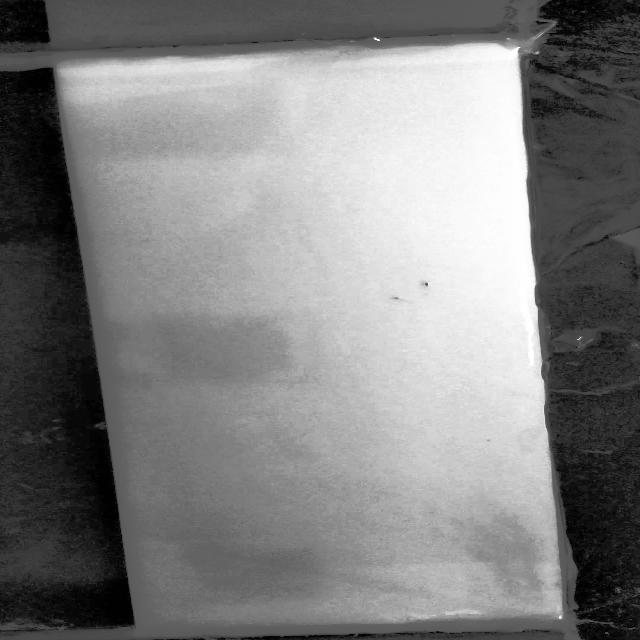shrimp: (406, 274, 446, 294)
